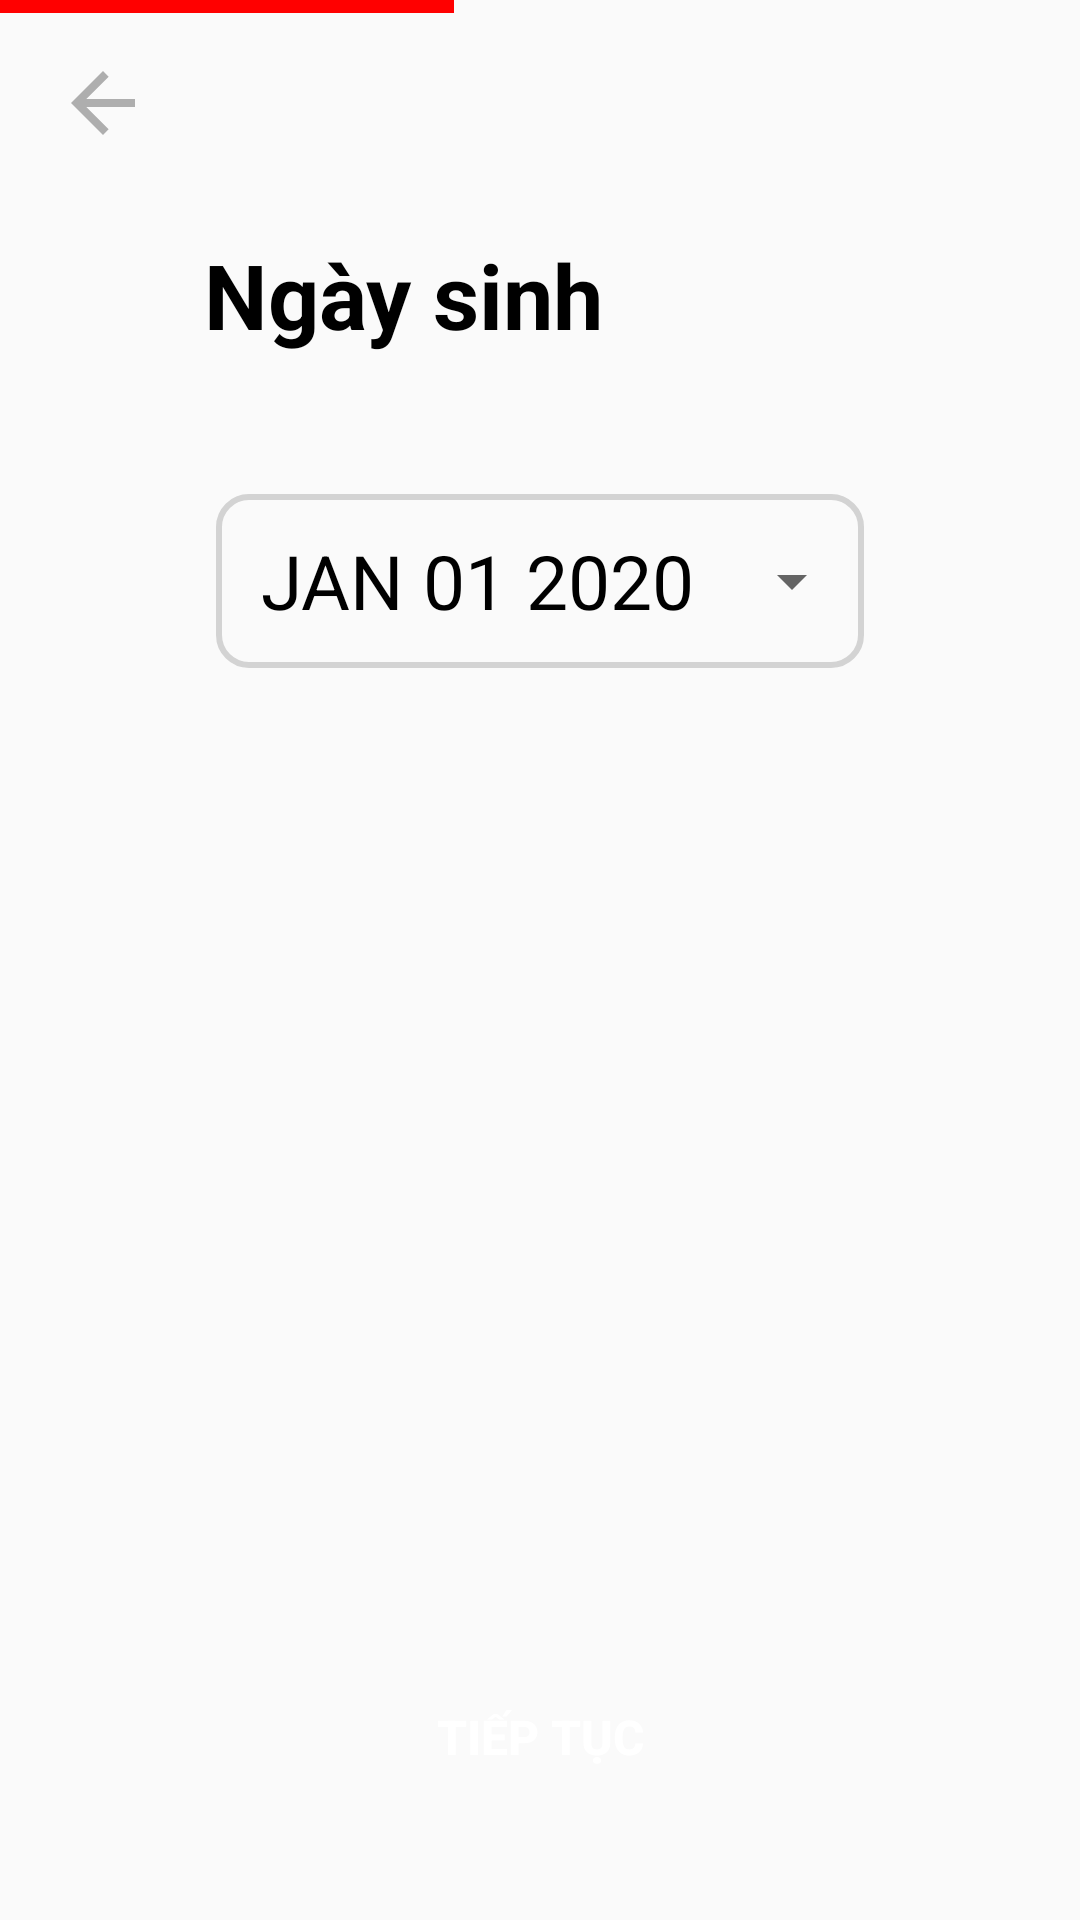

Point at icon controls on the screen. Image size 1080w x 1920h, points as point (x, y).
arrow back: point (103, 103)
